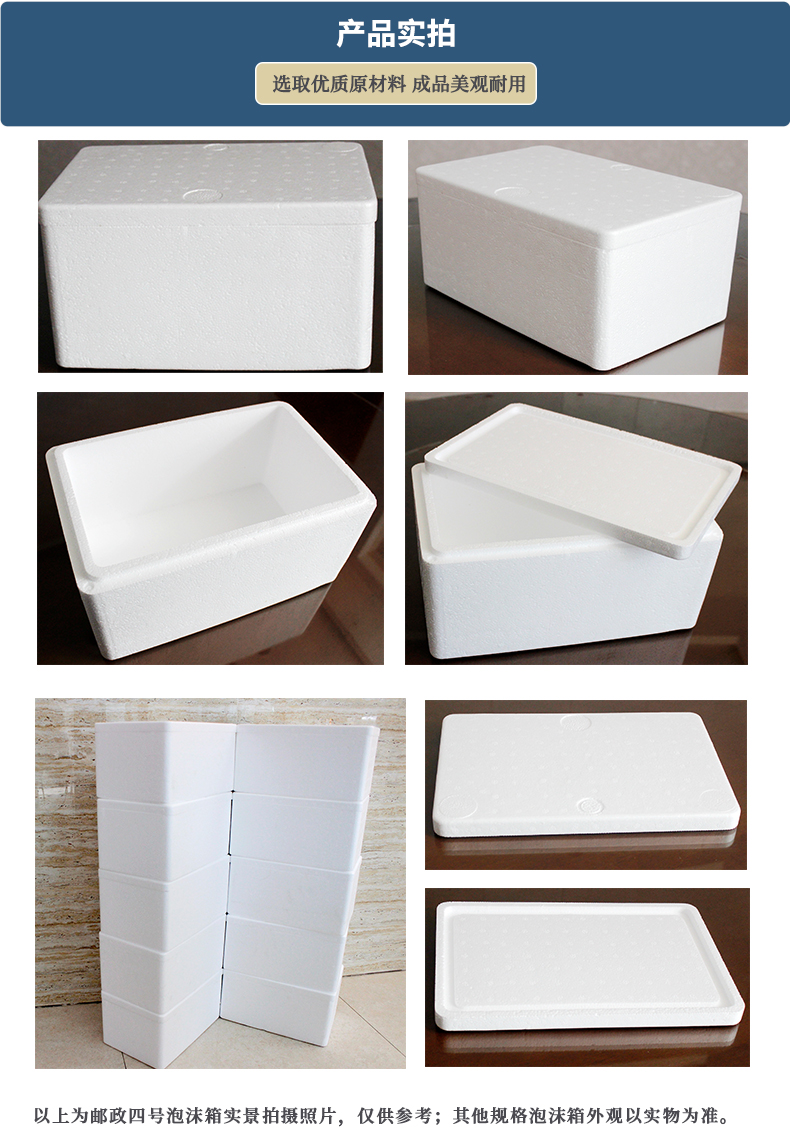Boxes: (95, 722, 379, 1067), (46, 403, 376, 659), (412, 404, 740, 659), (39, 142, 381, 371), (417, 146, 741, 371)
